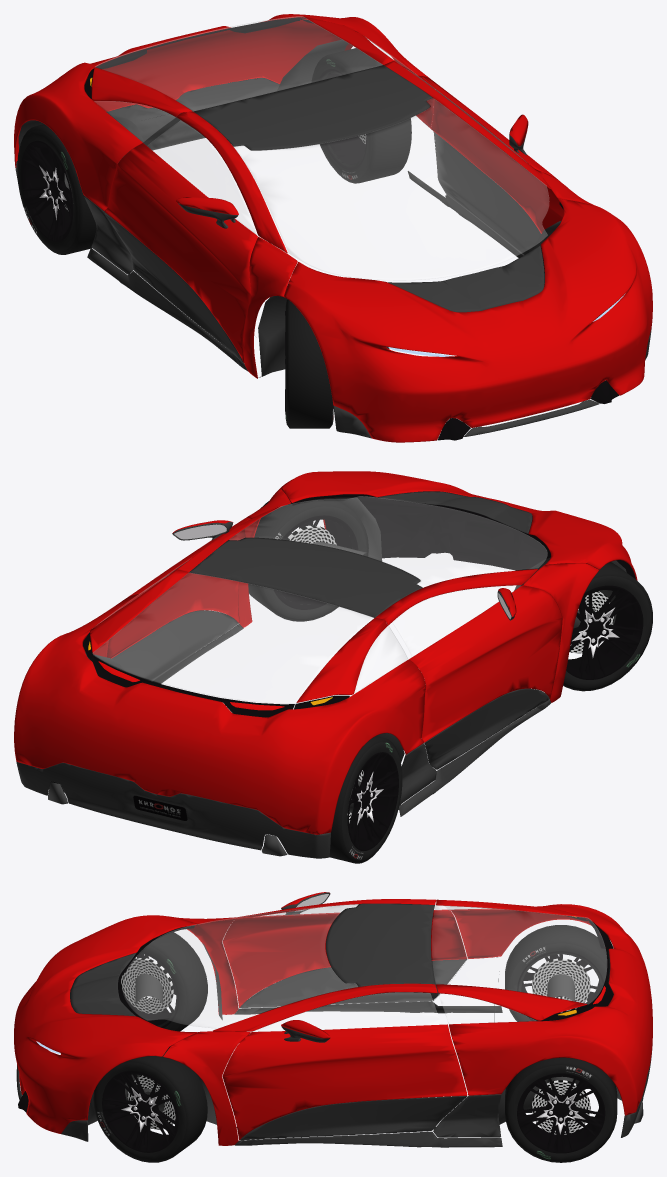
The model's file is CarConcept-race.glb.
3 renders of one model, top to bottom at view 1: azimuth 30°, elevation 25°; view 2: azimuth 150°, elevation 25°; view 3: azimuth 270°, elevation 25°, orthographic. The views are drawn at different scales.
Visible parts, largest first — view 1: BodyHood, BodyWindshield, BodyRearPanelsColor1, BodyRearwindow, BodyDoorRColor1, BodyRoofPanel, BodyPanelsColor2, BodyPillars, BodyDoorLColor1, BodyDoorLColor2, BodyHoodTopgrill, WheelFrontR (+11 smaller); view 2: BodyRearPanelsColor1, BodyRearwindow, BodyWindshield, BodyPanelsColor2, BodyDoorRColor1, BodyRoofPanel, BodyHoodInterior01, BodyHood, BodyPillars, WheelFrontRRim, BodyDoorLColor1, BodyDoorLColor2 (+14 smaller); view 3: BodyRearPanelsColor1, BodyWindshield, BodyDoorLColor1, BodyHood, BodyRearwindow, BodyPillars, BodyDoorRColor1, BodyRoofPanel, BodyPanelsColor2, BodyDoorLColor2, WheelFrontL, WheelRearLRim (+19 smaller).
Boxes of the visible parts, x1,y1,x2,y2 form: BodyHood: (283, 198, 652, 442); BodyWindshield: (234, 98, 549, 280); BodyRearPanelsColor1: (14, 14, 435, 210); BodyRearwindow: (95, 16, 382, 110); BodyDoorRColor1: (104, 143, 257, 363); BodyRoofPanel: (193, 65, 432, 150); BodyPanelsColor2: (15, 77, 651, 438); BodyPillars: (176, 61, 599, 378); BodyDoorLColor1: (418, 76, 563, 233); BodyDoorLColor2: (434, 132, 541, 254); BodyHoodTopgrill: (388, 245, 544, 312); WheelFrontR: (285, 299, 333, 428); BodyRearPanelsColor1: (14, 569, 425, 834); BodyRearwindow: (92, 573, 373, 703); BodyWindshield: (229, 496, 547, 587); BodyPanelsColor2: (16, 624, 550, 858); BodyDoorRColor1: (409, 585, 562, 742); BodyRoofPanel: (189, 537, 422, 617); BodyHoodInterior01: (282, 489, 635, 578); BodyHood: (279, 471, 637, 580); BodyPillars: (175, 489, 599, 702); WheelFrontRRim: (566, 585, 643, 679); BodyDoorLColor1: (106, 517, 250, 658); BodyDoorLColor2: (112, 610, 238, 681); BodyRearPanelsColor1: (436, 899, 652, 1115); BodyWindshield: (122, 904, 357, 1028); BodyDoorLColor1: (222, 1024, 467, 1140); BodyHood: (14, 915, 196, 1133); BodyRearwindow: (432, 905, 606, 1003); BodyPillars: (163, 899, 437, 1145); BodyDoorRColor1: (222, 909, 467, 1007); BodyRoofPanel: (326, 903, 434, 986); BodyPanelsColor2: (16, 957, 652, 1147); BodyDoorLColor2: (240, 1096, 467, 1140); WheelFrontL: (93, 1050, 207, 1162); WheelRearLRim: (517, 1073, 605, 1153).
Bounding box in the file's own units: 2.54 × 1.15 × 4.36.
15 materials, 5 textured.
